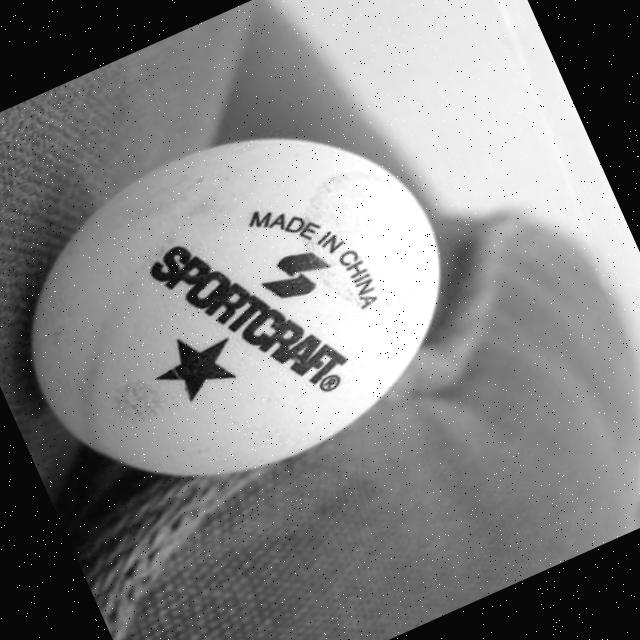ping-pong-ball: (0, 76, 495, 542)
